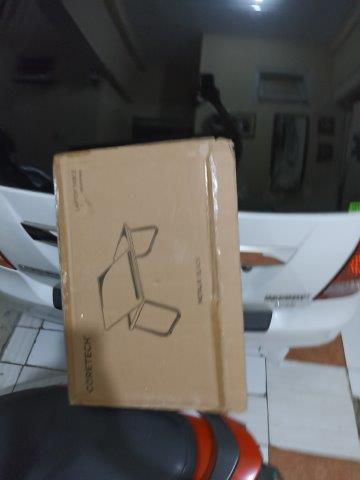kardus: (57, 141, 246, 419)
